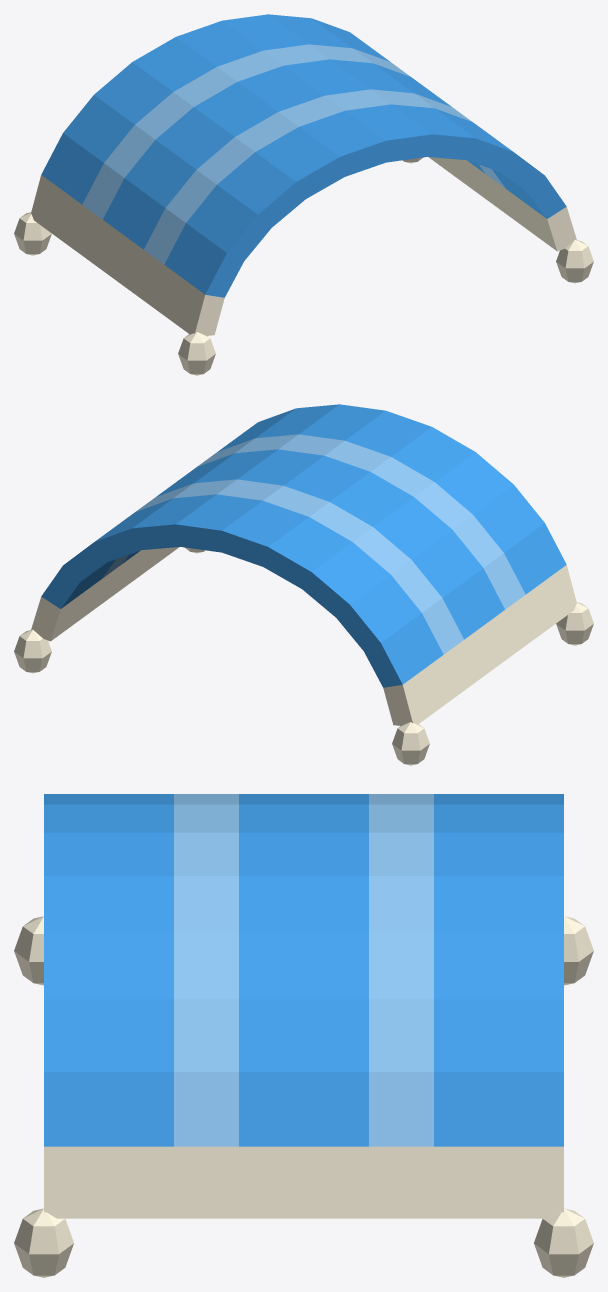
The model's file is f-filt-draperad-cc0.glb.
3 renders of one model, top to bottom at view 1: azimuth 30°, elevation 25°; view 2: azimuth 150°, elevation 25°; view 3: azimuth 270°, elevation 25°, orthographic. The views are drawn at different scales.
Visible parts, largest first — view 1: Filt_Draperad; view 2: Filt_Draperad; view 3: Filt_Draperad.
Boxes of the visible parts, x1,y1,x2,y2 form: Filt_Draperad: [14, 14, 593, 375]; Filt_Draperad: [14, 404, 593, 765]; Filt_Draperad: [14, 794, 593, 1277].
Size of the model in its own units: 0.5437 by 0.2413 by 0.424.
